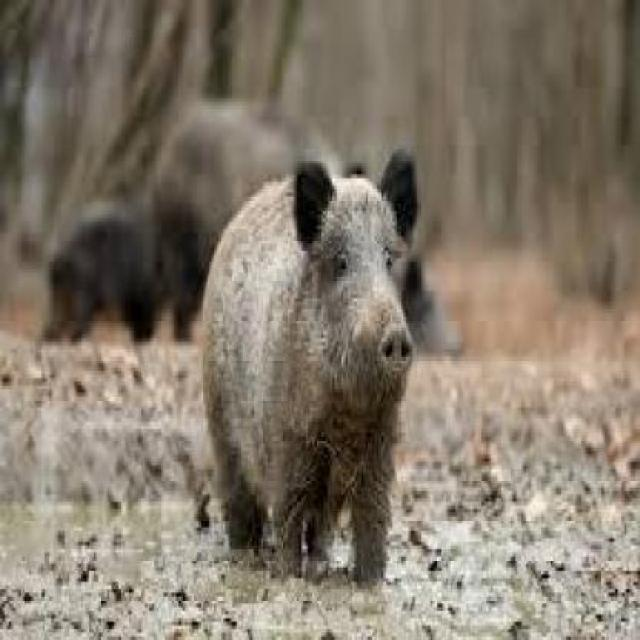wildboar: (200, 150, 422, 588), (150, 99, 447, 355), (46, 203, 177, 354)
